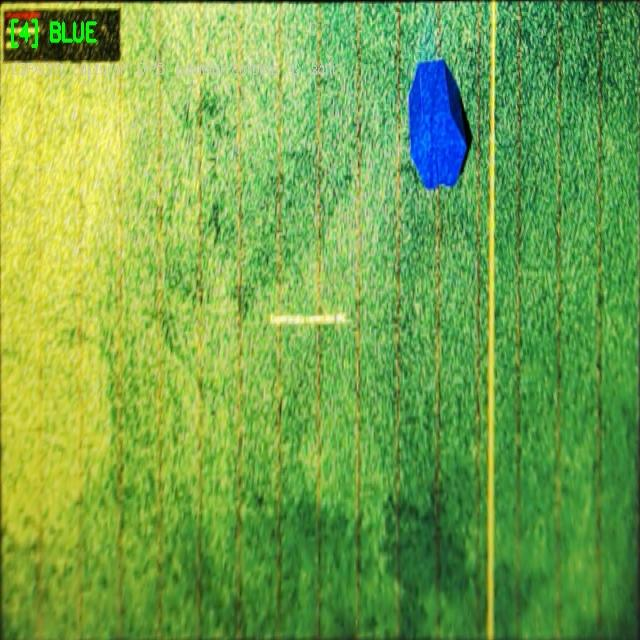blue: (407, 57, 471, 188)
